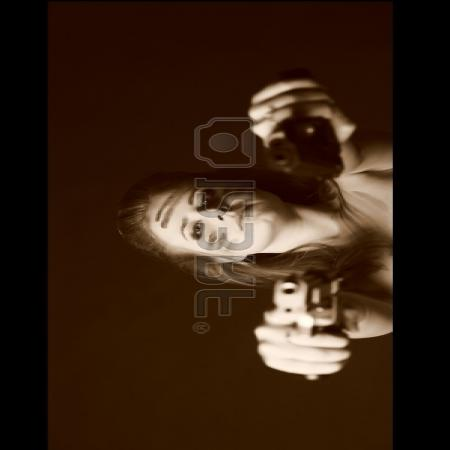Pistol: (246, 263, 358, 378), (255, 64, 342, 181)
